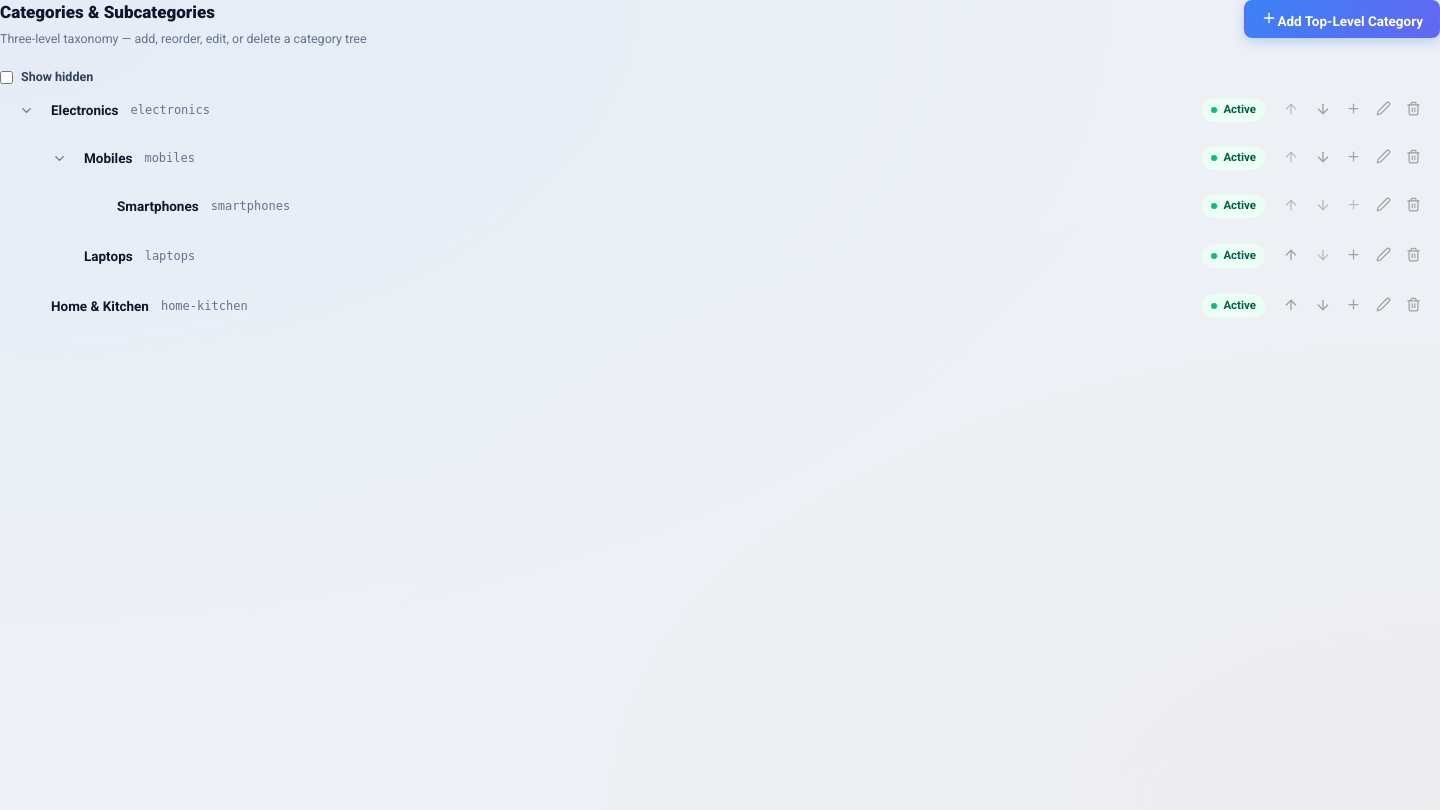
Scenario: CategoriesTreeEditor › keeps the form open and shows the real error when a save fails
This screenshot has width=1440, height=810.
expect the text "Electronics" is shown: met, box [51,100,118,120]
Click the button named "Add subcategory to Electronics" at (1353, 110), box [1339,96,1367,124]
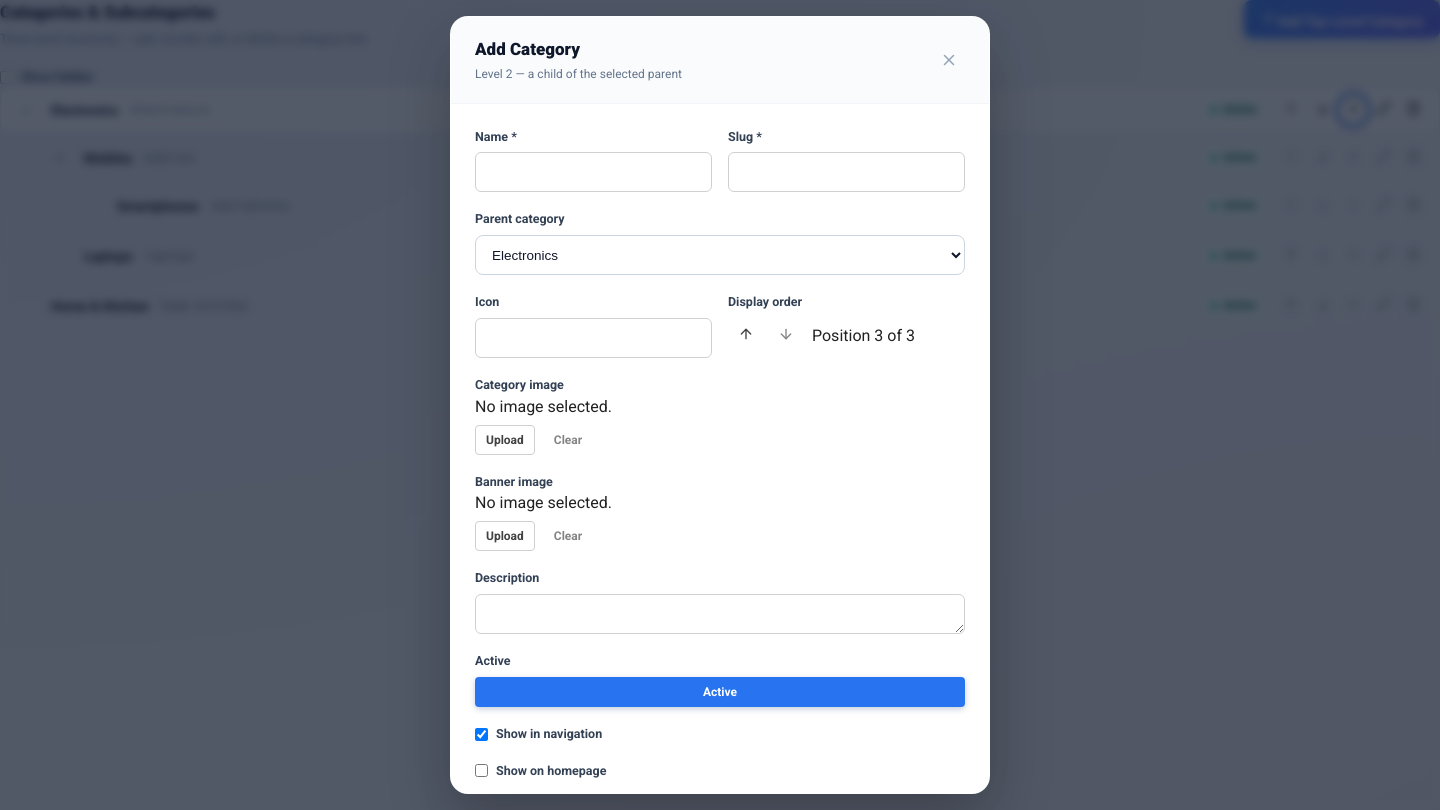
Type "Tablets" into the field labelled "Name *" at (594, 172), box [475,152,712,192]
(page scrolled)
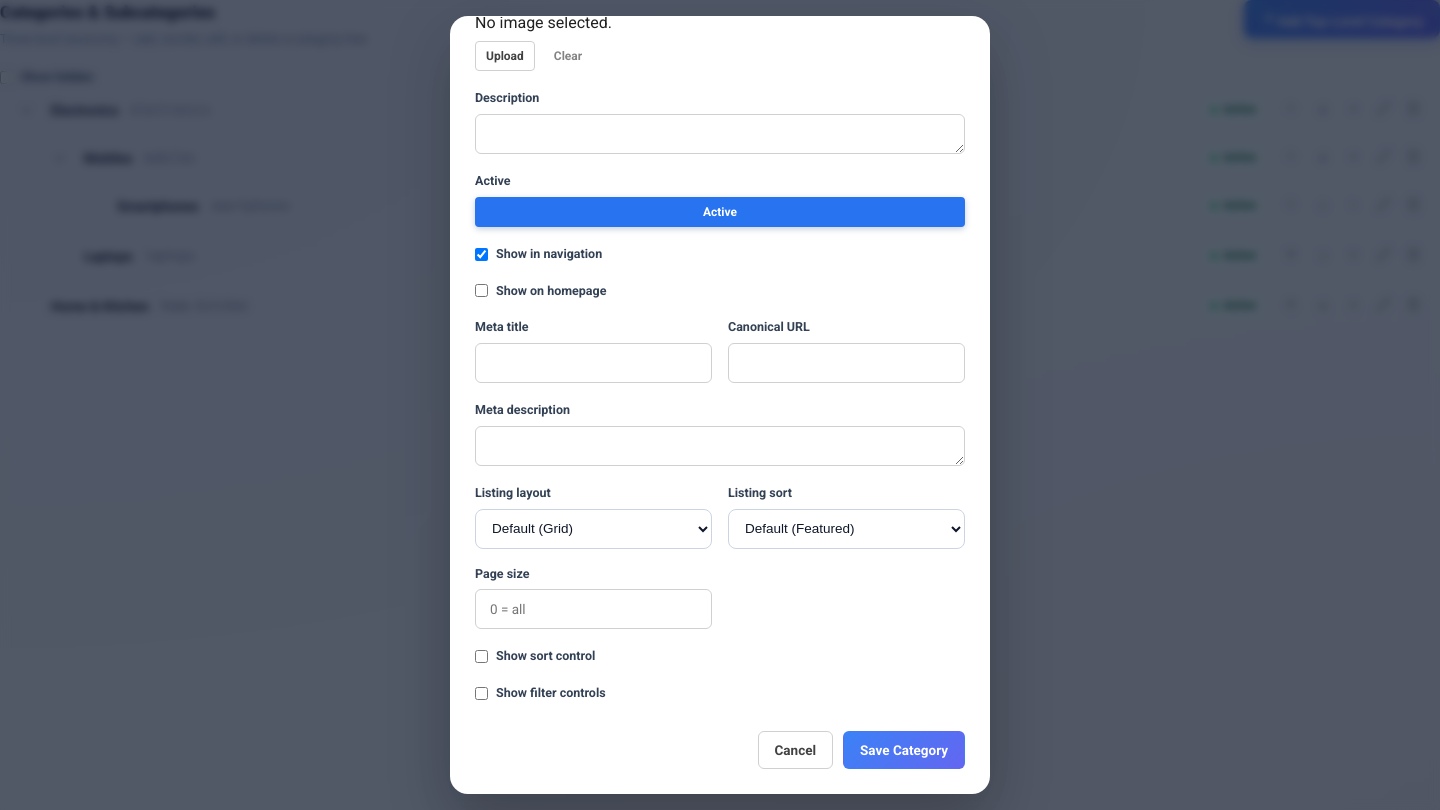
Click the button "Save Category" at (904, 750), box [843,731,965,769]
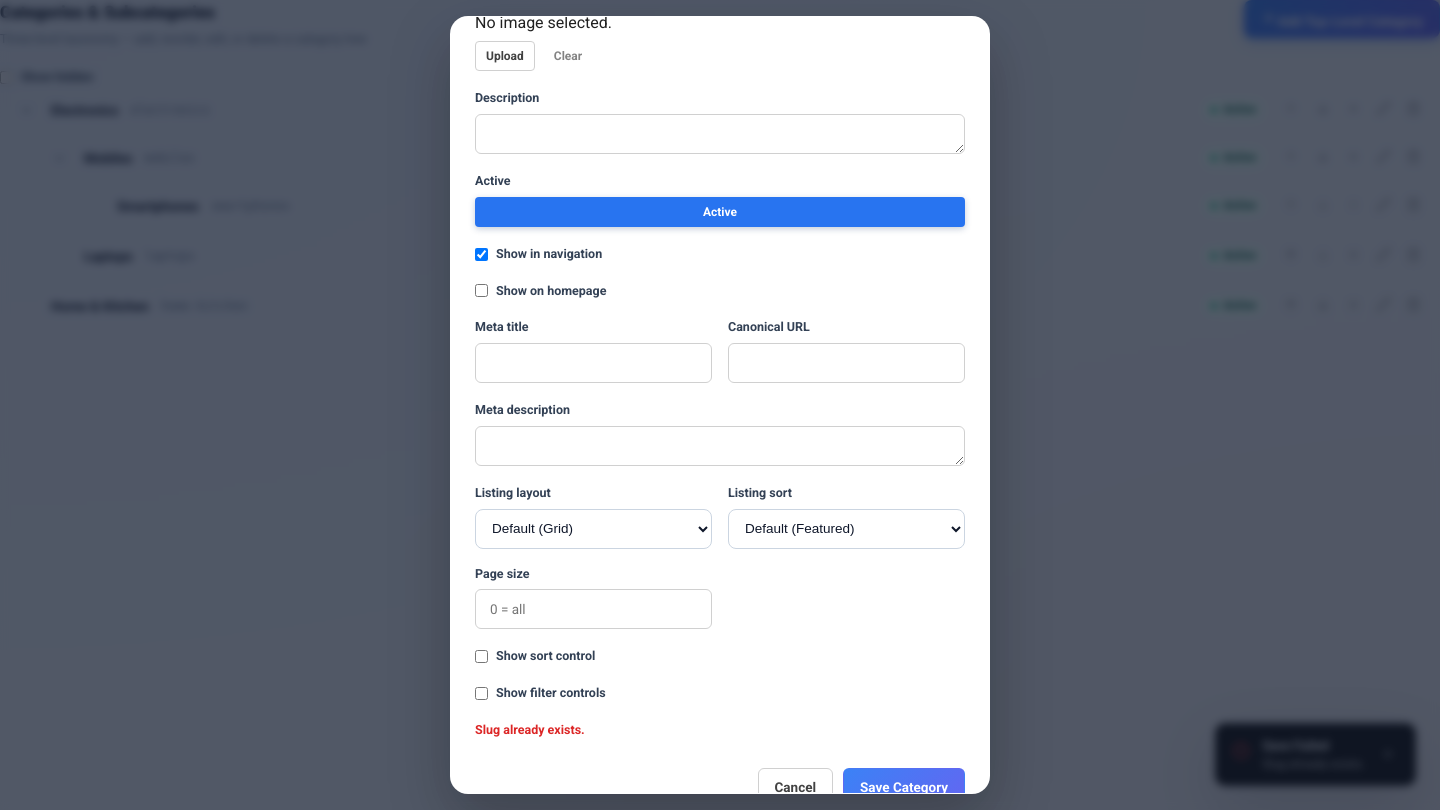
expect the message reads "Slug already exists.": met, box [475,722,585,737]
